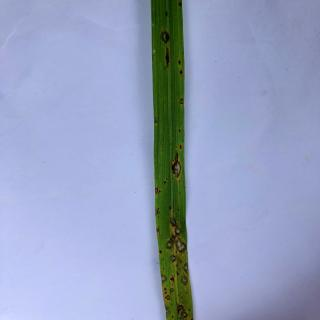Blast: (162, 206, 188, 256), (166, 154, 185, 179), (158, 26, 173, 44), (160, 48, 172, 68), (178, 269, 190, 286), (173, 95, 188, 108), (176, 301, 187, 315), (154, 184, 162, 197)
